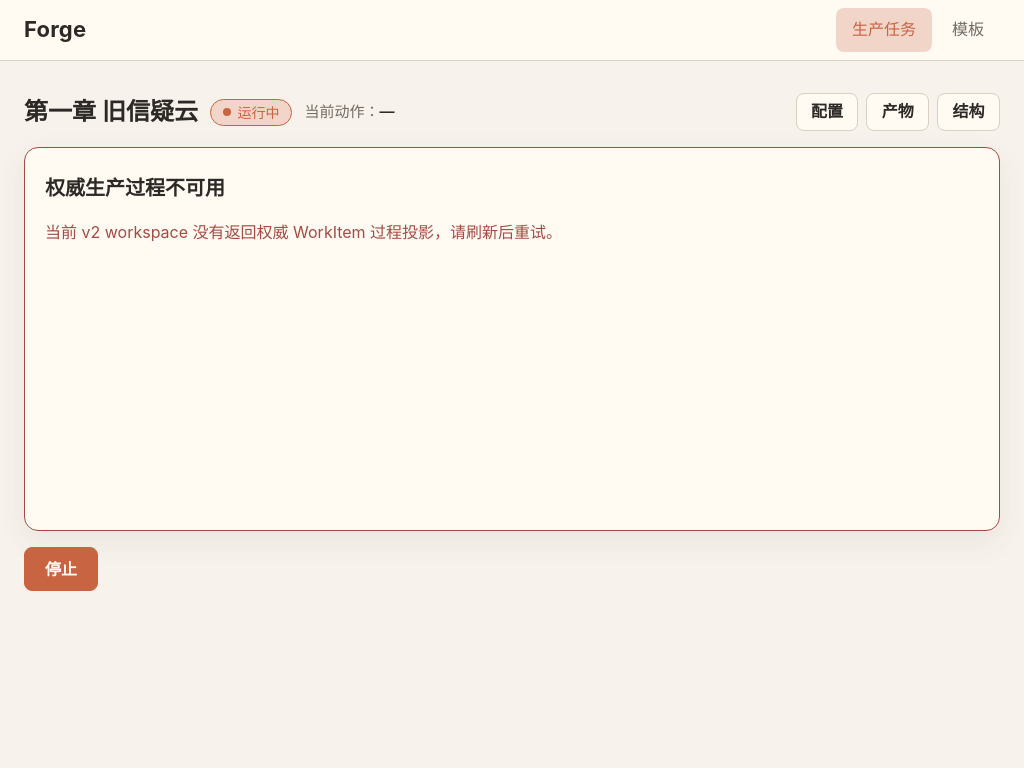
it: ProductionPage version dispatch (Task 24) › locates a relation Finding in the relationship view instead of doing nothing
This screenshot has width=1024, height=768.
Step 1. Click the button "结构" → (969, 112), box 937,93 -> 1000,131
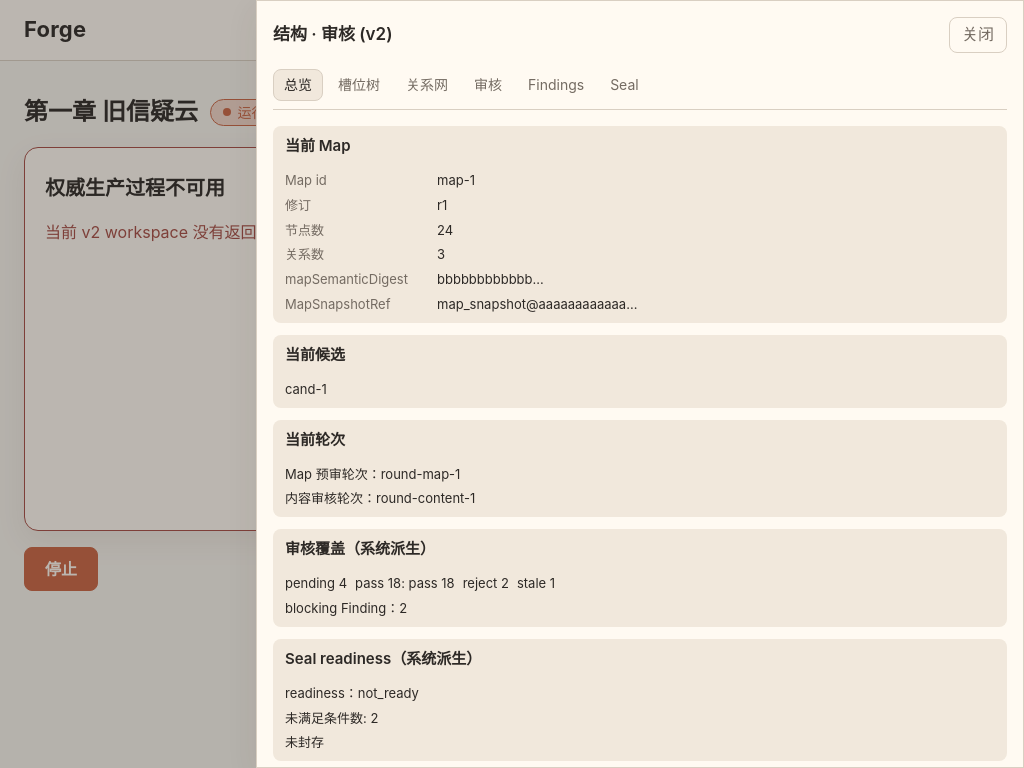
Step 2. Click the tab "Findings" → (556, 85), box 517,69 -> 595,101
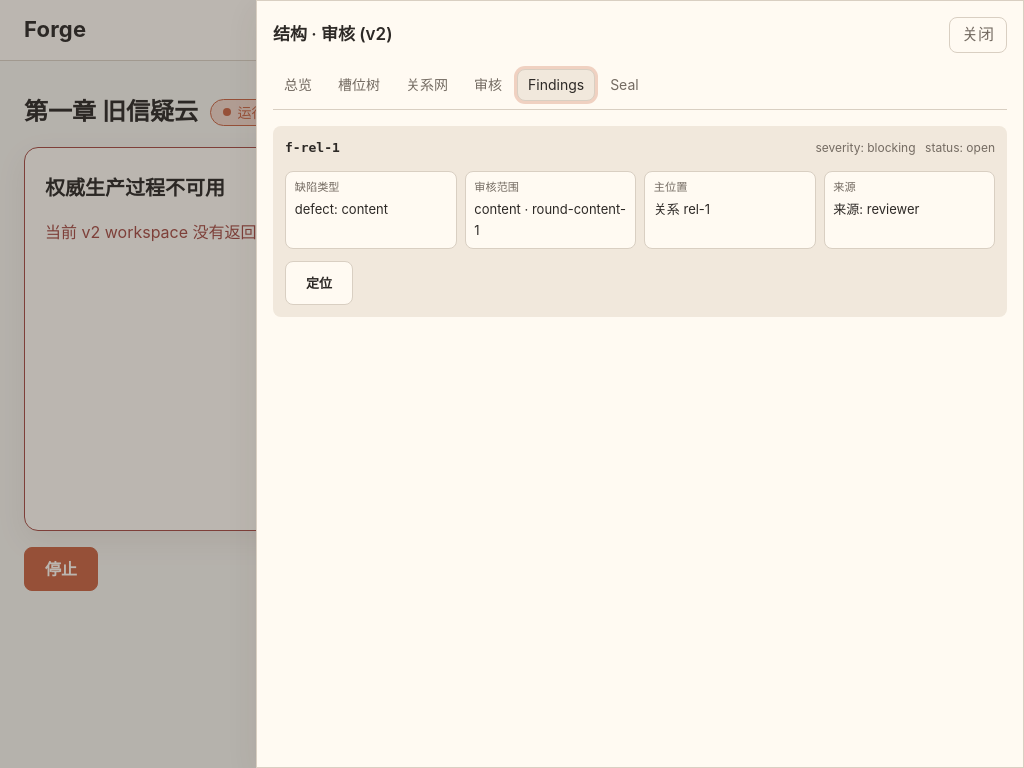
Step 3. Click the button with aria-label "定位 finding 主体 rel-1" → (319, 283), box 285,261 -> 353,305
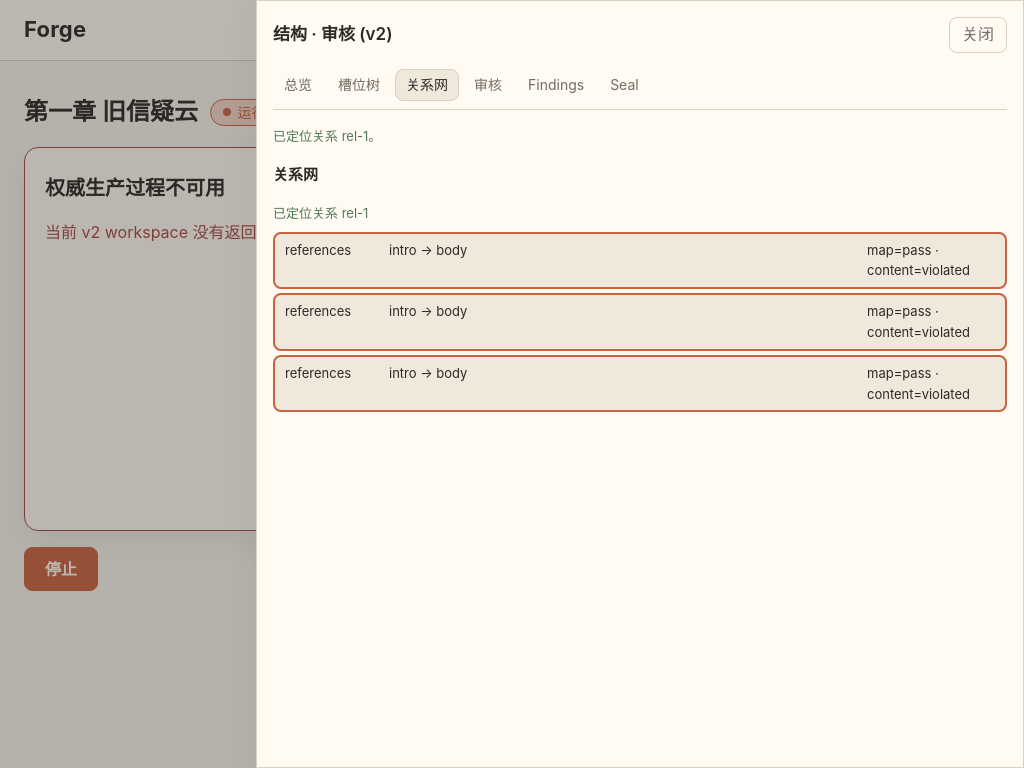
Check: the message named "定位结果" shows "已定位关系 rel-1", box 273,128 -> 381,144
Check: the list item with aria-label "rel-1" is shown, box 273,232 -> 1007,289
